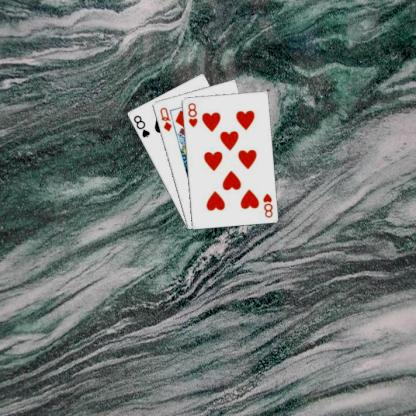8H: (184, 100, 198, 128), (260, 190, 273, 218)
8S: (130, 113, 151, 139)
QD: (157, 104, 173, 132)
